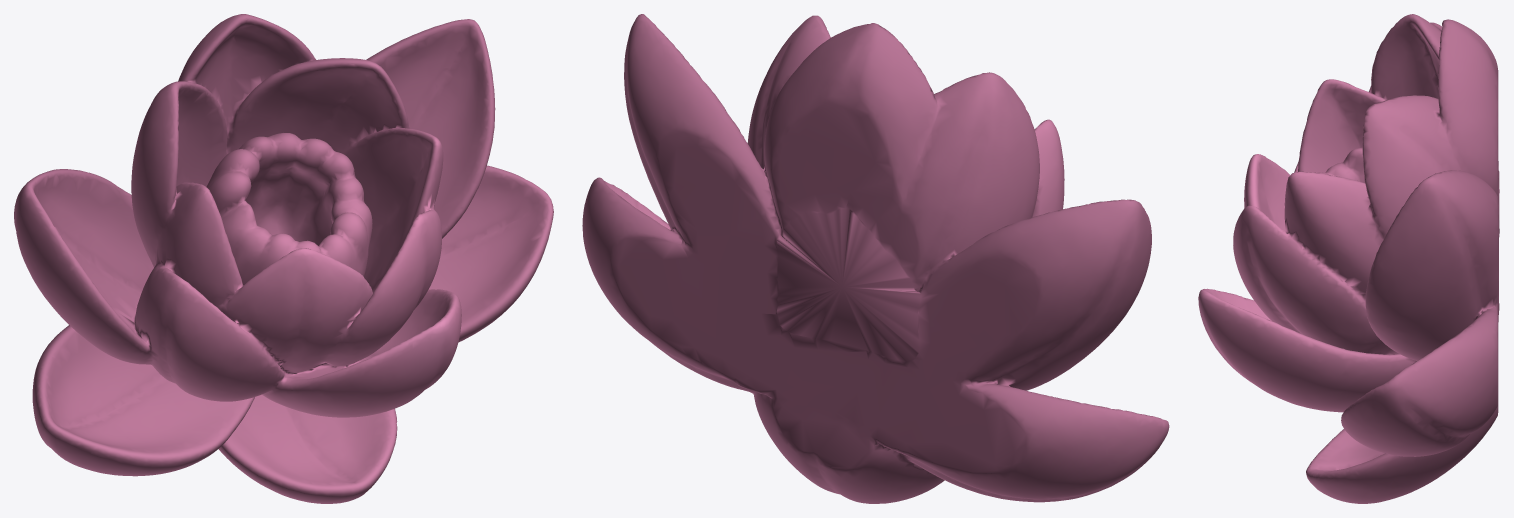
File: lotus.glb
3 views of the same model, side by side, from view 1: azimuth 30°, elevation 25°; view 2: azimuth 150°, elevation 25°; view 3: azimuth 270°, elevation 25° (orthographic). The views are drawn at different scales.
Visible parts, largest first — view 1: lotus; view 2: lotus; view 3: lotus.
Part boxes in pixels (<box>): lotus: <box>14,14,553,503</box>; lotus: <box>582,14,1169,503</box>; lotus: <box>1198,14,1499,503</box>.
Size of the model in its own units: 1 by 0.8602 by 0.5129.
